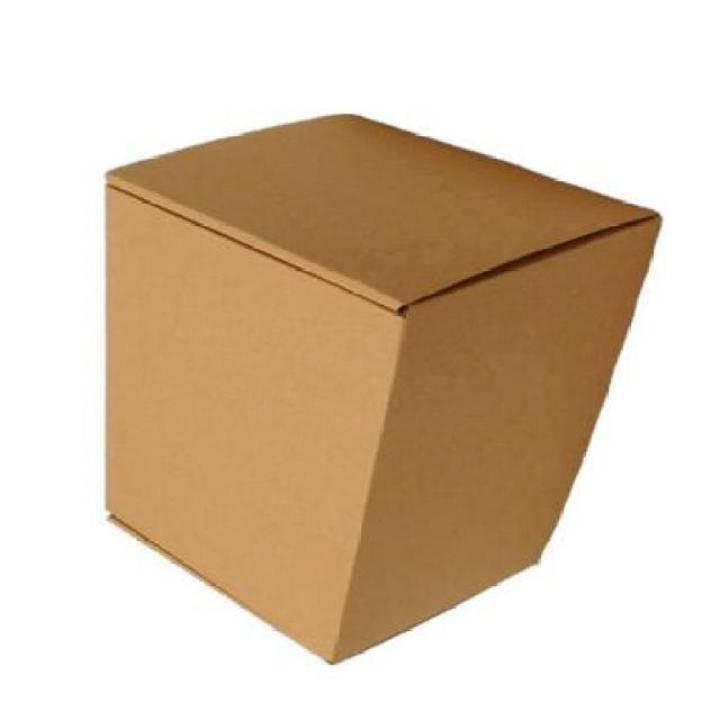box: (94, 99, 664, 668)
